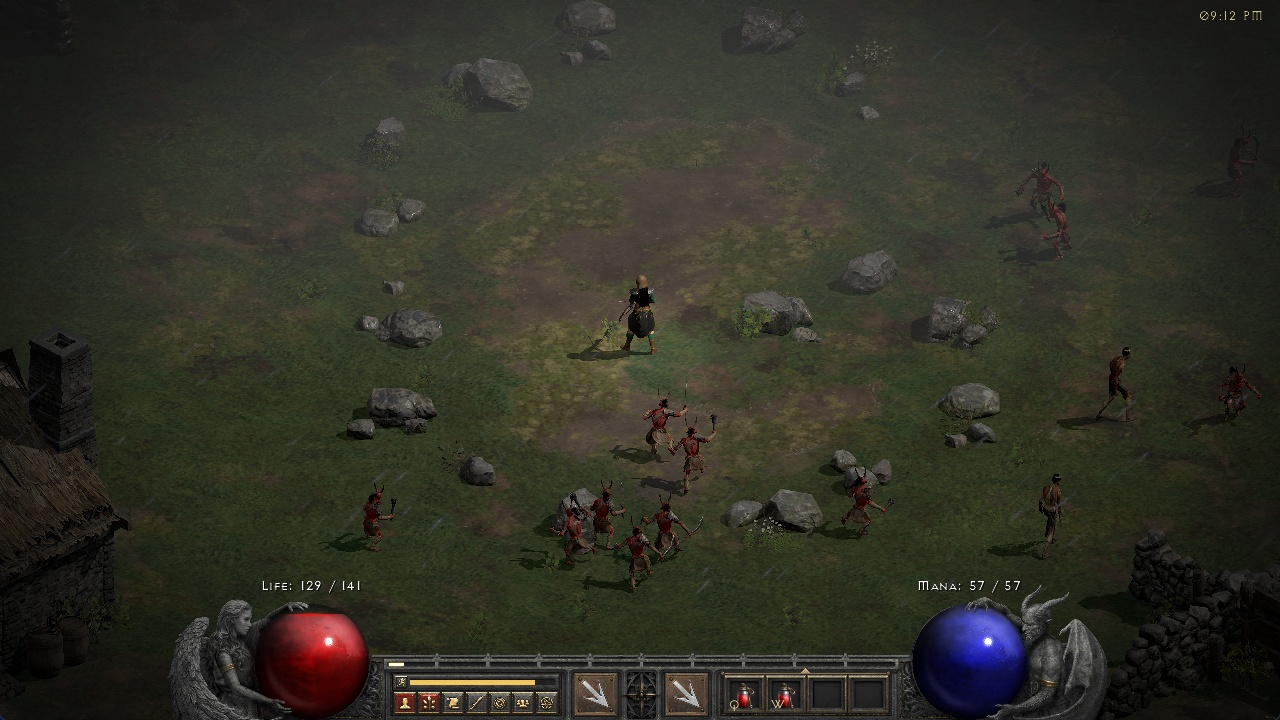fallen: (833, 471, 890, 537), (359, 481, 404, 556), (1212, 361, 1265, 419), (1222, 126, 1268, 192), (650, 490, 696, 554), (671, 412, 718, 474), (553, 508, 599, 567), (639, 382, 681, 442), (616, 519, 658, 579), (588, 484, 629, 544), (1036, 195, 1072, 262), (1019, 150, 1066, 192)
